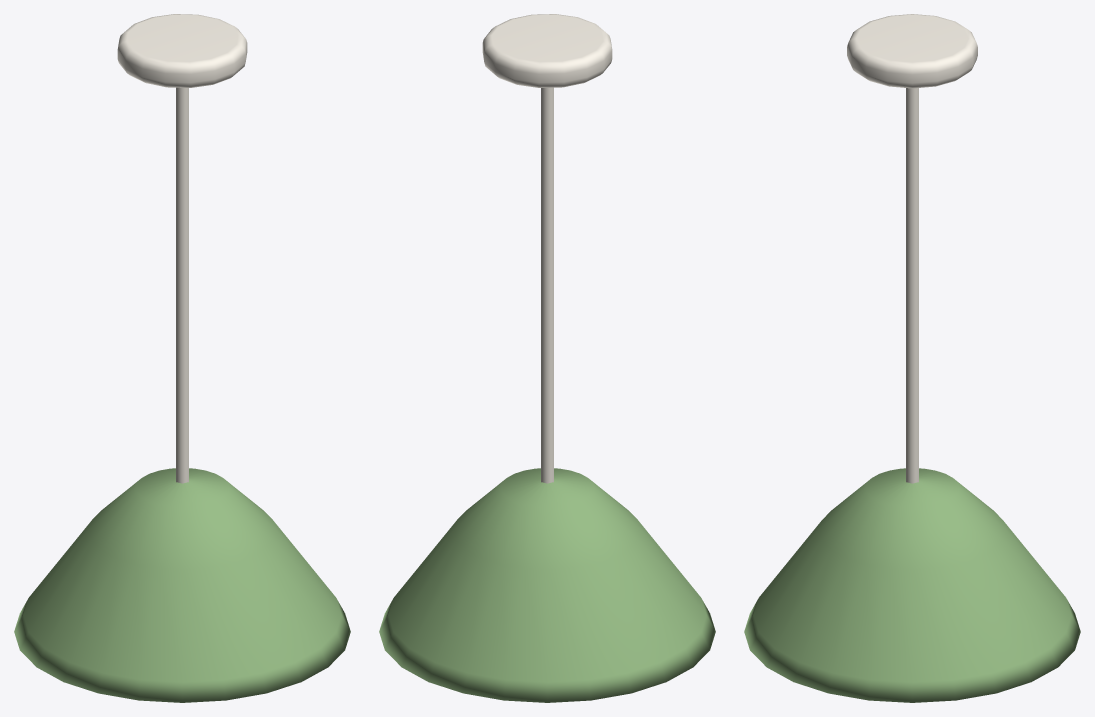
The model's file is nordic_pendant.glb.
3 views of the same model, side by side, from view 1: azimuth 30°, elevation 25°; view 2: azimuth 150°, elevation 25°; view 3: azimuth 270°, elevation 25° (orthographic).
Visible parts, largest first — view 1: nordic_pendant_mesh; view 2: nordic_pendant_mesh; view 3: nordic_pendant_mesh.
Boxes of the visible parts, <box> form: nordic_pendant_mesh: <box>14,14,350,702</box>; nordic_pendant_mesh: <box>379,14,715,702</box>; nordic_pendant_mesh: <box>744,14,1080,702</box>.
Bounding box in the file's own units: 0.36 × 0.715 × 0.36.
